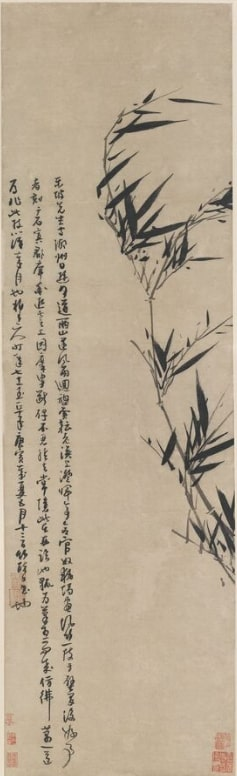bamboo: (99, 100, 237, 592)
